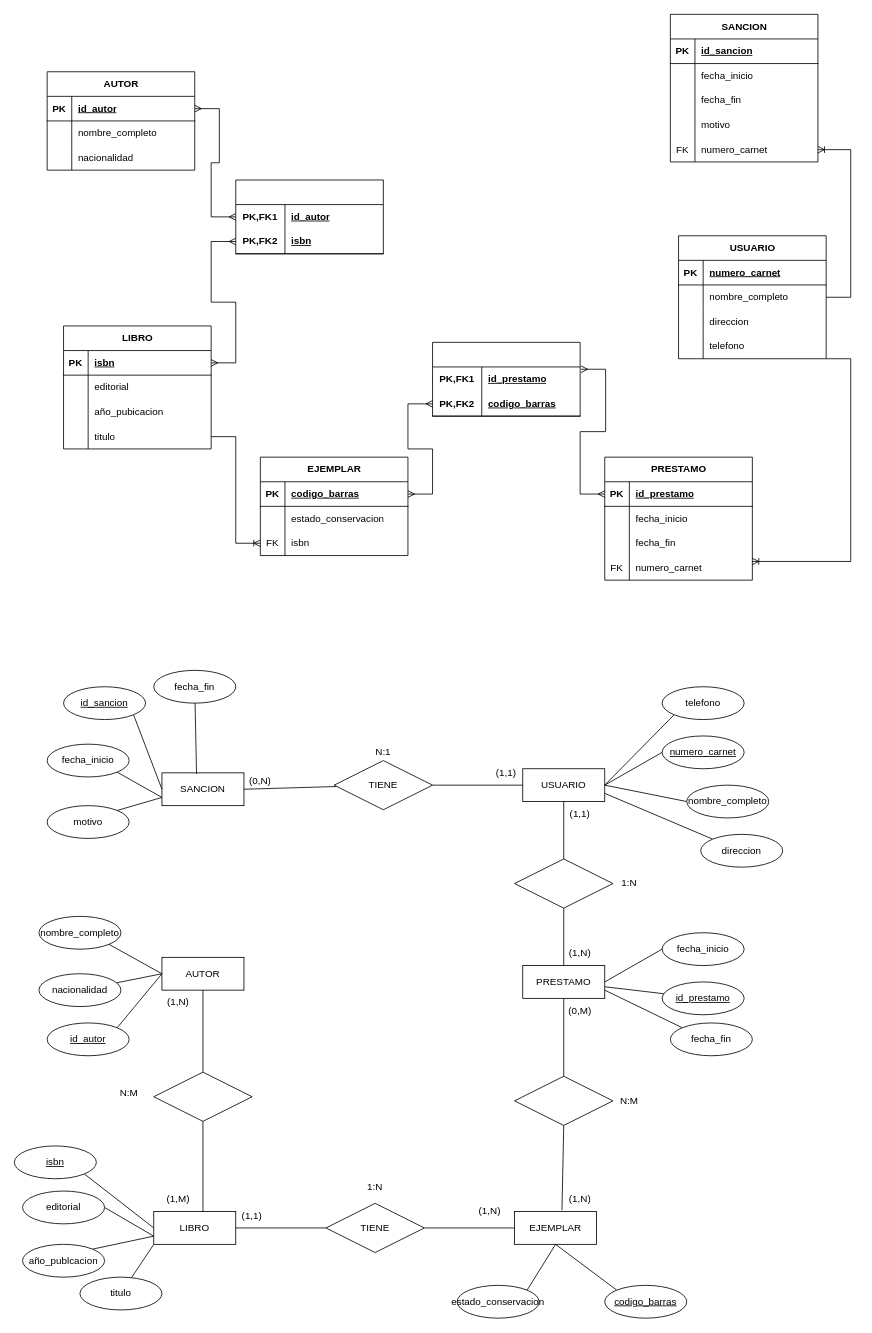
Some shapes in this 872 by 1333 pixel diagram are drawn without their labels. Here are the shapes that lost their labels. From the top down, the box of each, then its label:
(235, 179, 383, 254): AUTOR_ESCRIBE_LIBRO
(432, 342, 580, 416): EJEMPLAR_SE_PRESTA
(514, 858, 613, 908): TOMA
(153, 1071, 252, 1121): ESCRIBE
(514, 1075, 613, 1125): SE
